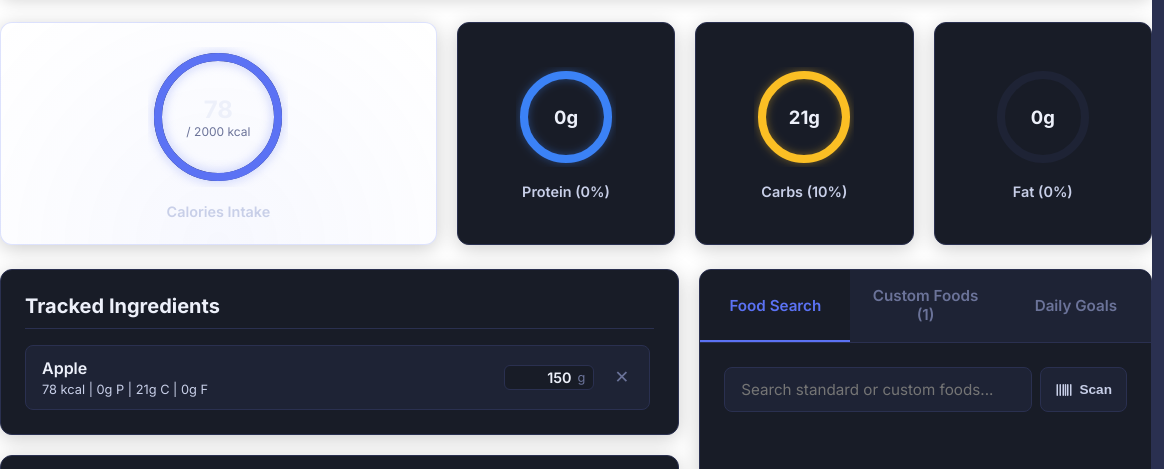
TrackerPage › supports swapping tabs to Custom Foods and displays created list
The width and height of the screenshot is (1164, 469).
Expected: the text "Apple" is shown, [42,358,87,378]
Click the button "Custom Foods (1)".
click(926, 306)  # box [850,270,1001,342]
(page scrolled)
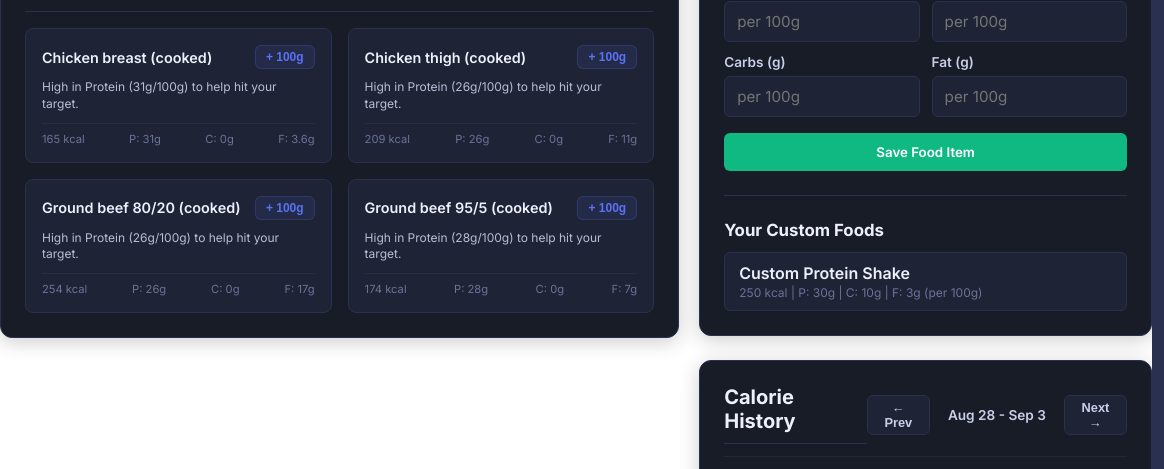
Result: the text "Custom Protein Shake" is shown at [739,263,910,283]
Result: the text "250 kcal | P: 30g | C: 10g | F: 3g (per 100g)" is shown at [739,285,982,300]
